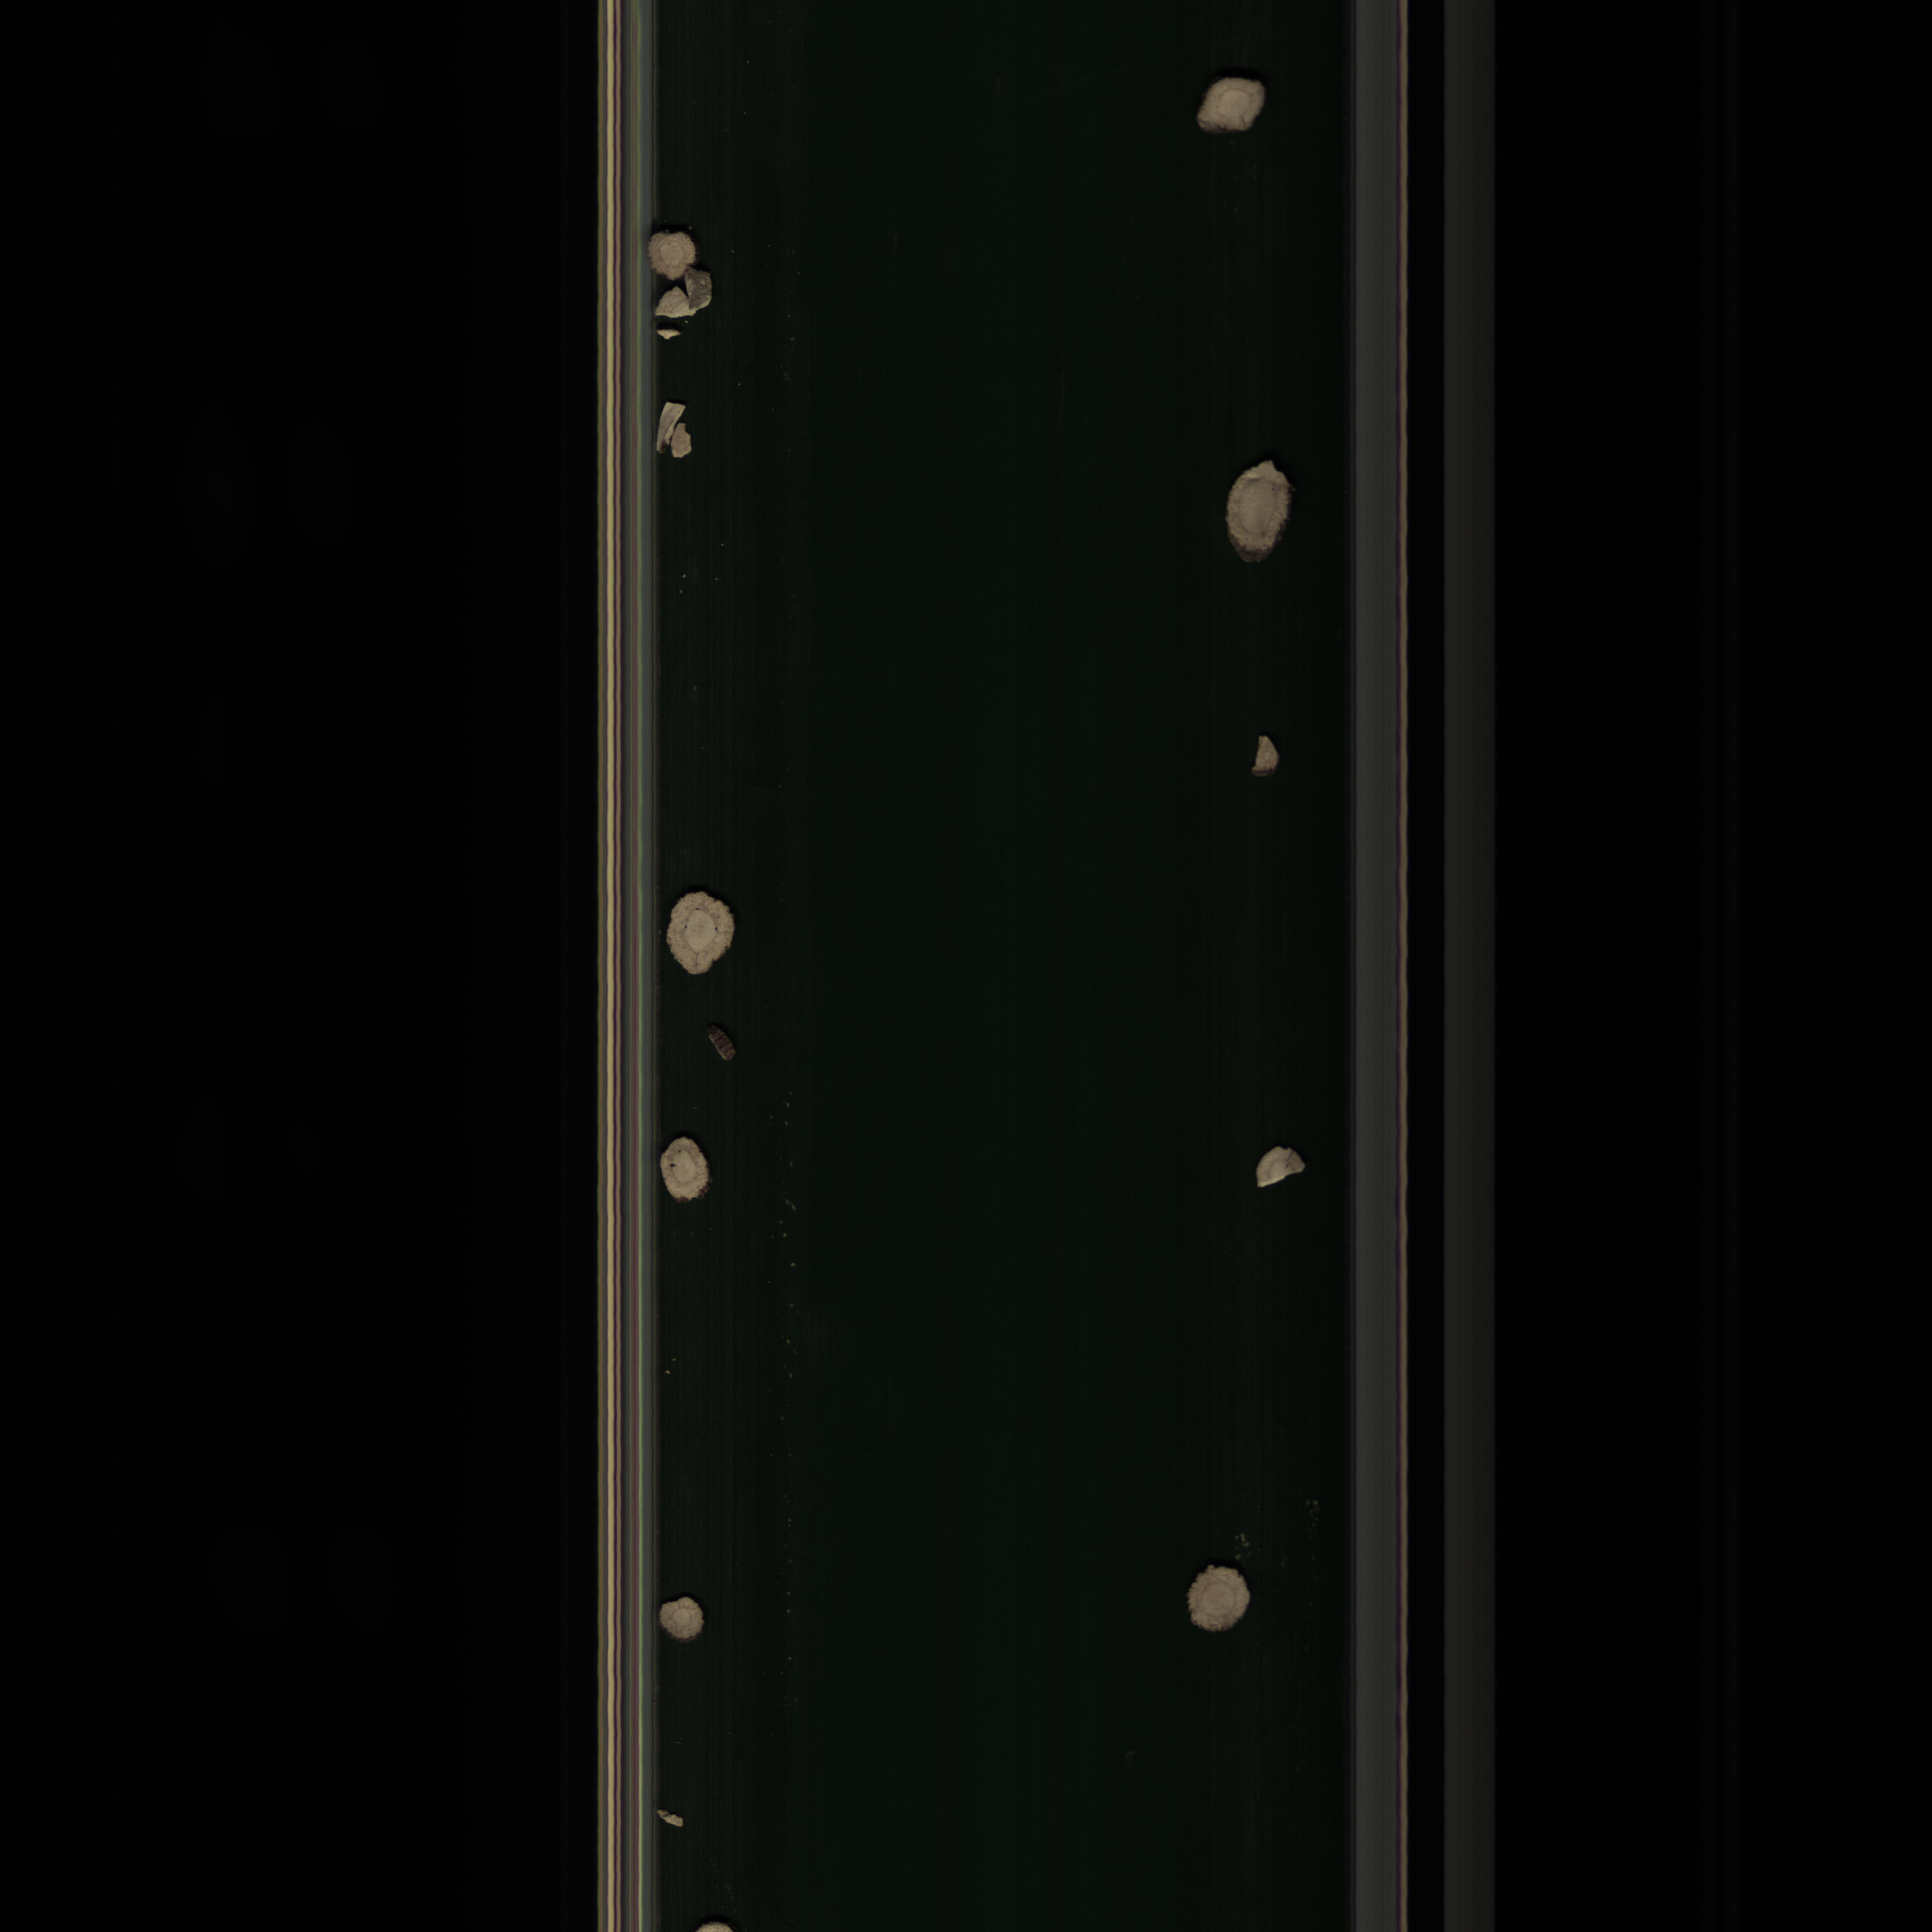bark: (695, 1019, 745, 1070), (649, 1799, 692, 1829)
debris: (648, 395, 699, 469), (1247, 1138, 1311, 1192), (1249, 727, 1281, 782)
distortion: (1219, 449, 1304, 573)
hole: (658, 1134, 720, 1208)
